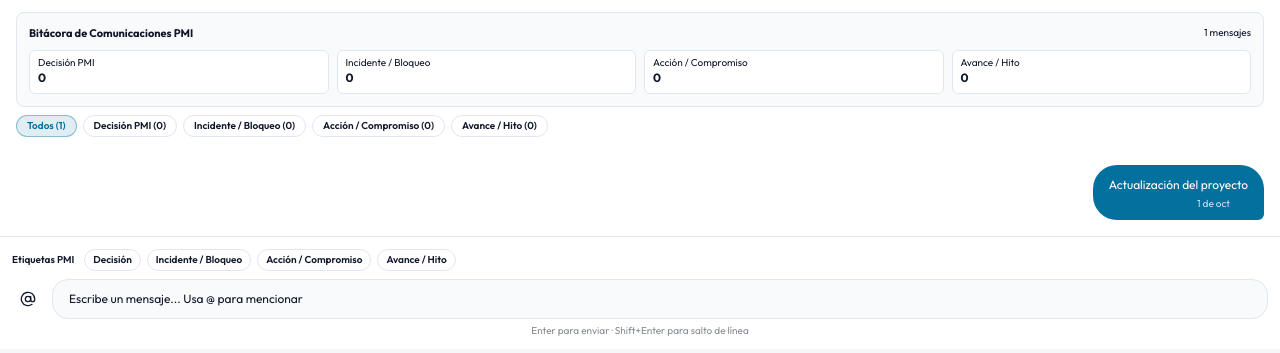
ProjectChatPanel action access › supports keyboard navigation (ArrowDown, Enter) to select mention
Note: Type @Ca
Type "Hola @Ca" into the field named "Escribir mensaje en el chat del proyecto" at (660, 299), box [52,279,1268,319]
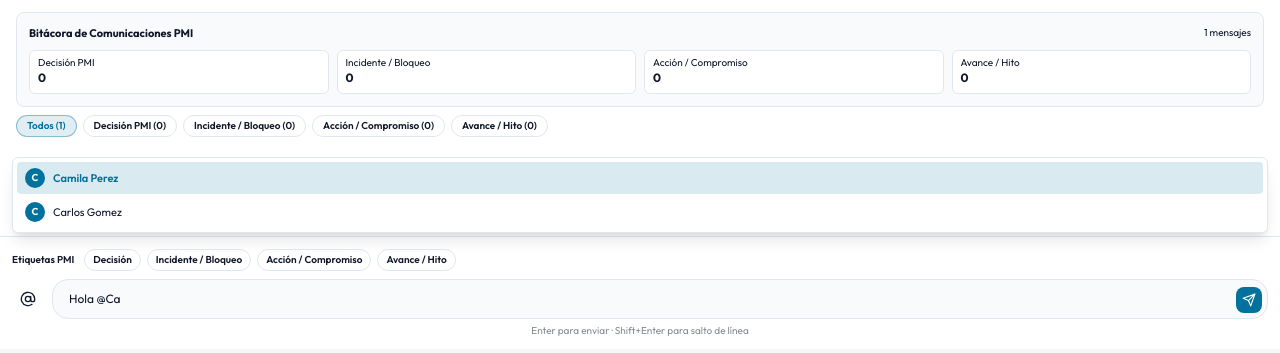
expect the list named "Sugerencias de mención" is shown: met, box [12,157,1268,233]
Note: Initial item is Camila Perez (alphabetical first). ArrowDown moves to Carlos Gomez.
Press ArrowDown in the field named "Escribir mensaje en el chat del proyecto", box [52,279,1268,319]
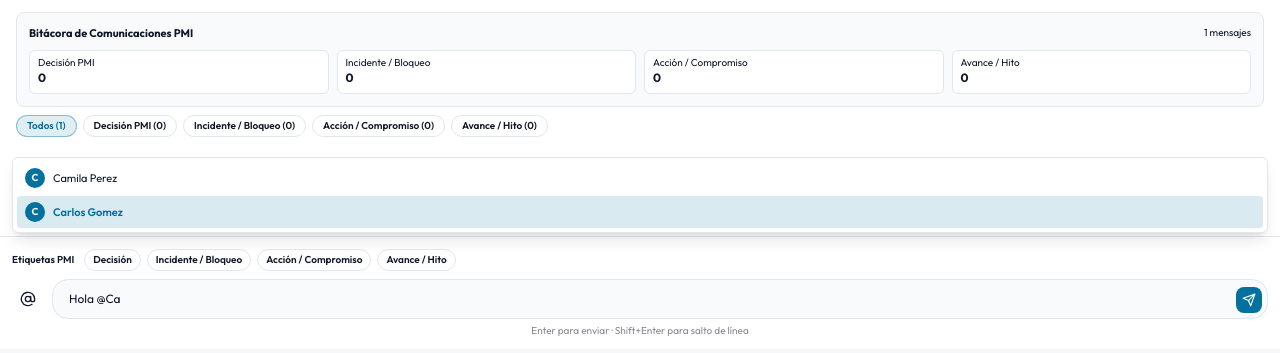
Note: Press Enter to select Carlos Gomez
Press Enter in the field named "Escribir mensaje en el chat del proyecto", box [52,279,1268,319]
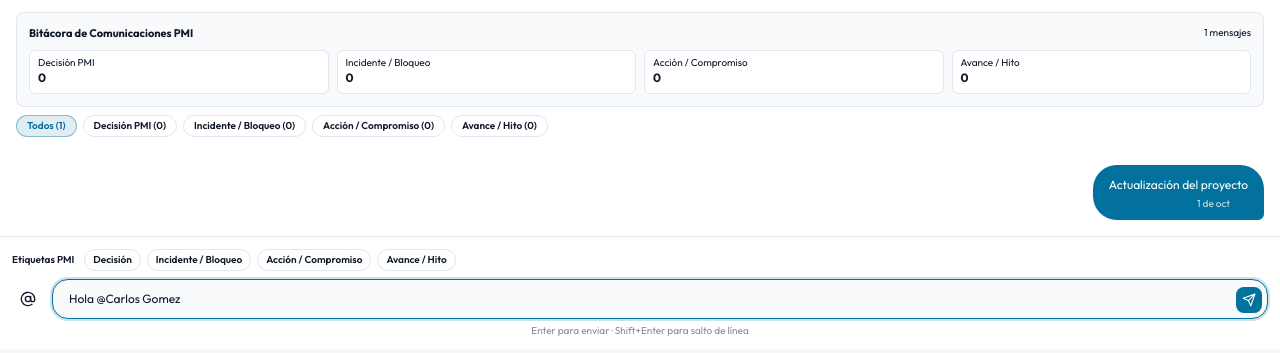
expect the field named "Escribir mensaje en el chat del proyecto" holds "Hola @Carlos Gomez ": met, box [52,279,1268,319]
